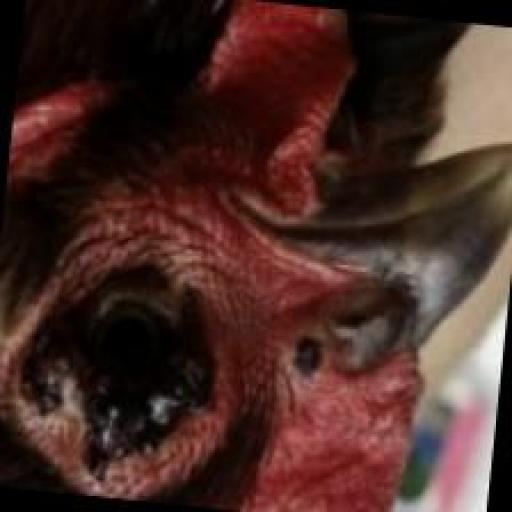disease: (7, 187, 338, 499)
